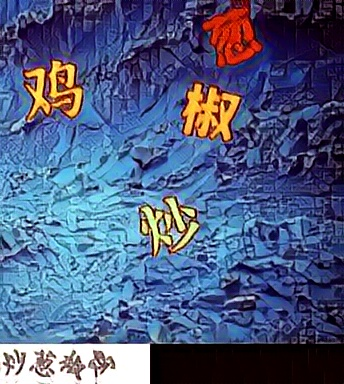B3B4: (137, 192, 201, 258)
B4D0: (203, 5, 267, 71)
BCA6: (20, 58, 84, 124)
BDB7: (180, 80, 244, 146)
